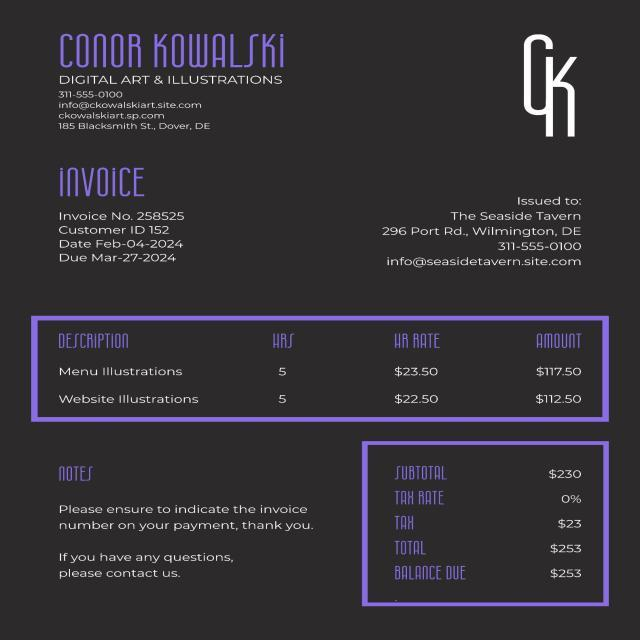ROI: (32, 308, 614, 430), (350, 437, 620, 621), (38, 452, 324, 602), (40, 19, 313, 140), (352, 181, 606, 284), (42, 159, 214, 273), (472, 32, 594, 152)
